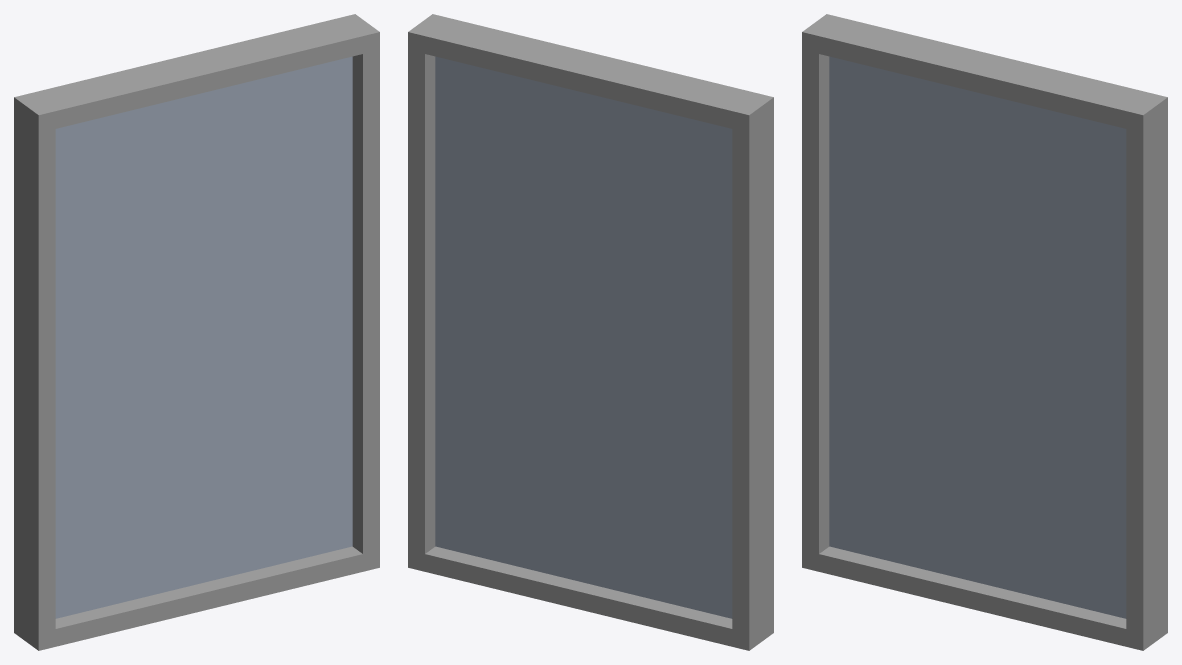
The model's file is Neo_Window_01.fbx.
The picture shows the model from 3 angles, left to right: view 1: azimuth 30°, elevation 25°; view 2: azimuth 150°, elevation 25°; view 3: azimuth 330°, elevation 25°; orthographic projection.
Parts seen in each view (by area): view 1: Neo_Window_01_Glass_01, Neo_Window_01; view 2: Neo_Window_01_Glass_01, Neo_Window_01; view 3: Neo_Window_01_Glass_01, Neo_Window_01.
Boxes of the visible parts, x1,y1,x2,y2 form: Neo_Window_01_Glass_01: (55, 56, 352, 618); Neo_Window_01: (14, 14, 379, 650); Neo_Window_01_Glass_01: (435, 56, 732, 618); Neo_Window_01: (408, 14, 773, 650); Neo_Window_01_Glass_01: (829, 56, 1126, 618); Neo_Window_01: (802, 14, 1167, 650).
Bounding box in the file's own units: 99.98 × 150 × 12.5.
